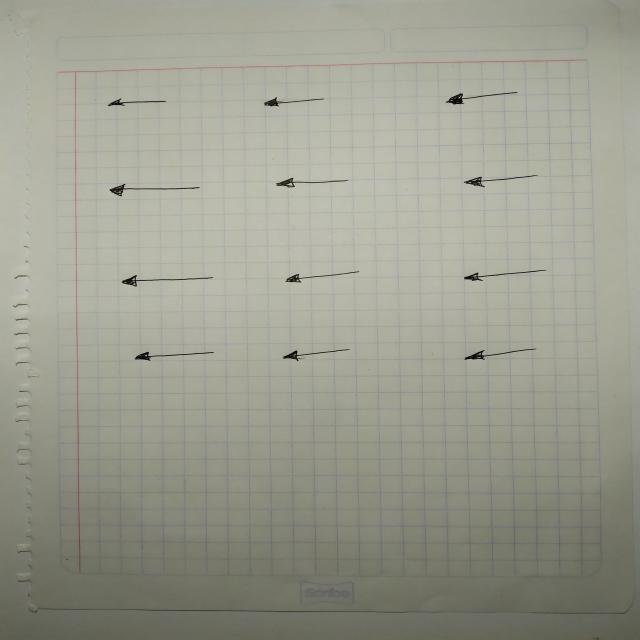arrow_line_left: (94, 178, 221, 203), (451, 343, 554, 368), (110, 269, 227, 291), (438, 86, 537, 111), (269, 341, 363, 366), (269, 268, 377, 289), (452, 170, 544, 192), (125, 345, 222, 365), (264, 176, 360, 196), (456, 266, 557, 284), (250, 93, 347, 111), (100, 94, 180, 110)
